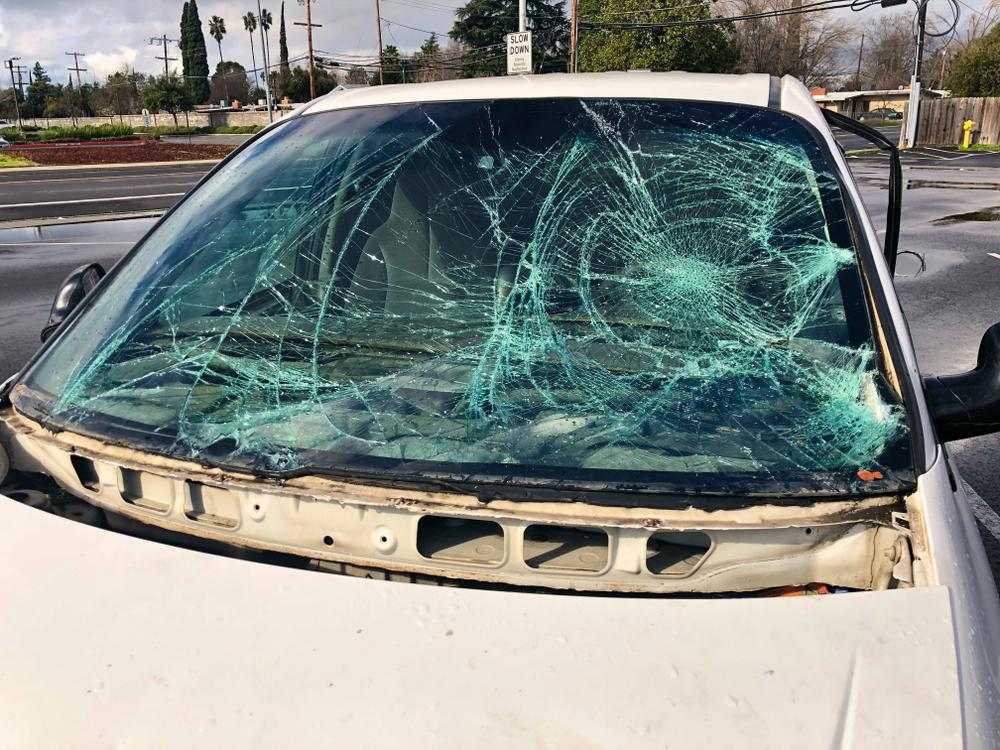glass shatter: (9, 98, 918, 494)
